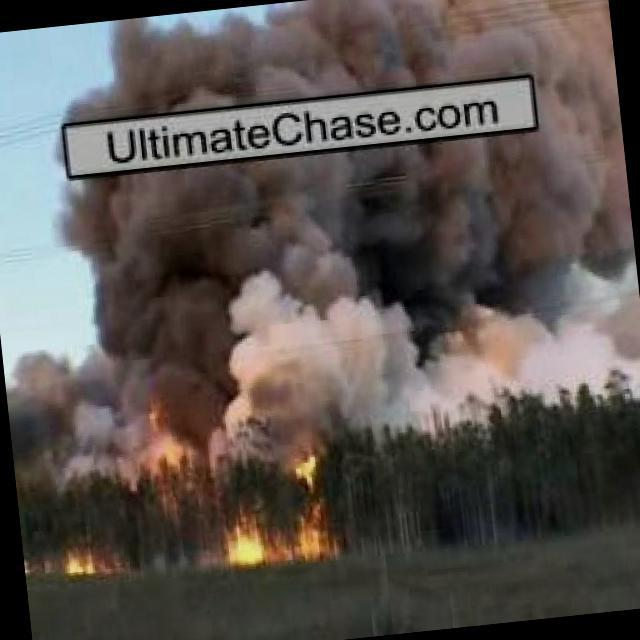Fire: (217, 456, 342, 572), (144, 385, 199, 478), (63, 551, 104, 577)
